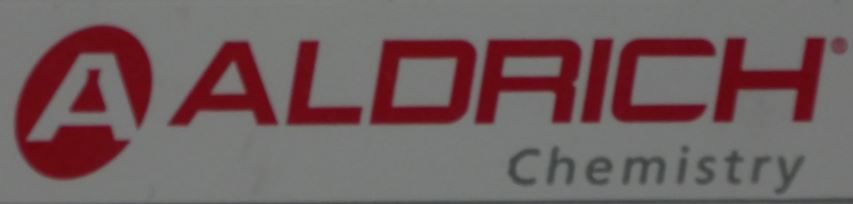SigmaAldrich: (13, 20, 850, 194)
